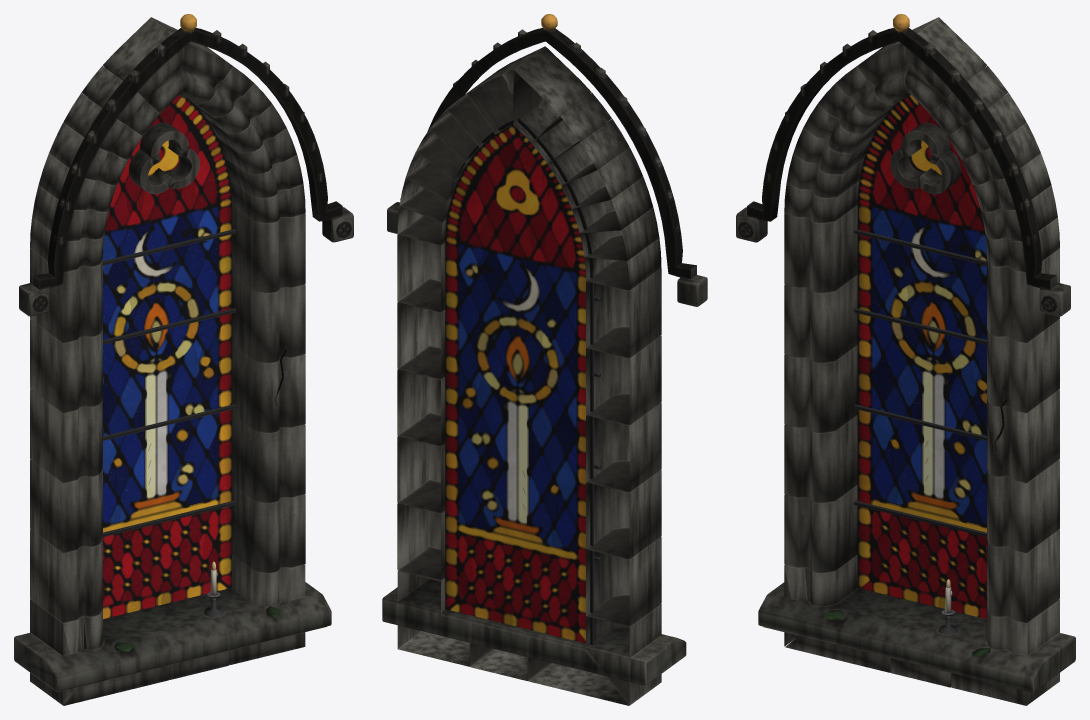
Rendered from StainedLancet.fbx.
3 views of the same model, side by side, from view 1: azimuth 30°, elevation 25°; view 2: azimuth 150°, elevation 25°; view 3: azimuth 330°, elevation 25° (orthographic). The views are drawn at different scales.
Parts seen in each view (by area): view 1: StainedLancet_Main, StainedLancet_Stained; view 2: StainedLancet_Main, StainedLancet_Stained; view 3: StainedLancet_Main, StainedLancet_Stained.
Boxes of the visible parts, x1=… form: StainedLancet_Main: x1=14, y1=14, x2=353, y2=705; StainedLancet_Stained: x1=103, y1=95, x2=232, y2=618; StainedLancet_Main: x1=382, y1=14, x2=707, y2=705; StainedLancet_Stained: x1=444, y1=118, x2=593, y2=645; StainedLancet_Main: x1=736, y1=14, x2=1075, y2=705; StainedLancet_Stained: x1=857, y1=95, x2=986, y2=618.
Bounding box in the file's own units: 496 × 968 × 121.
